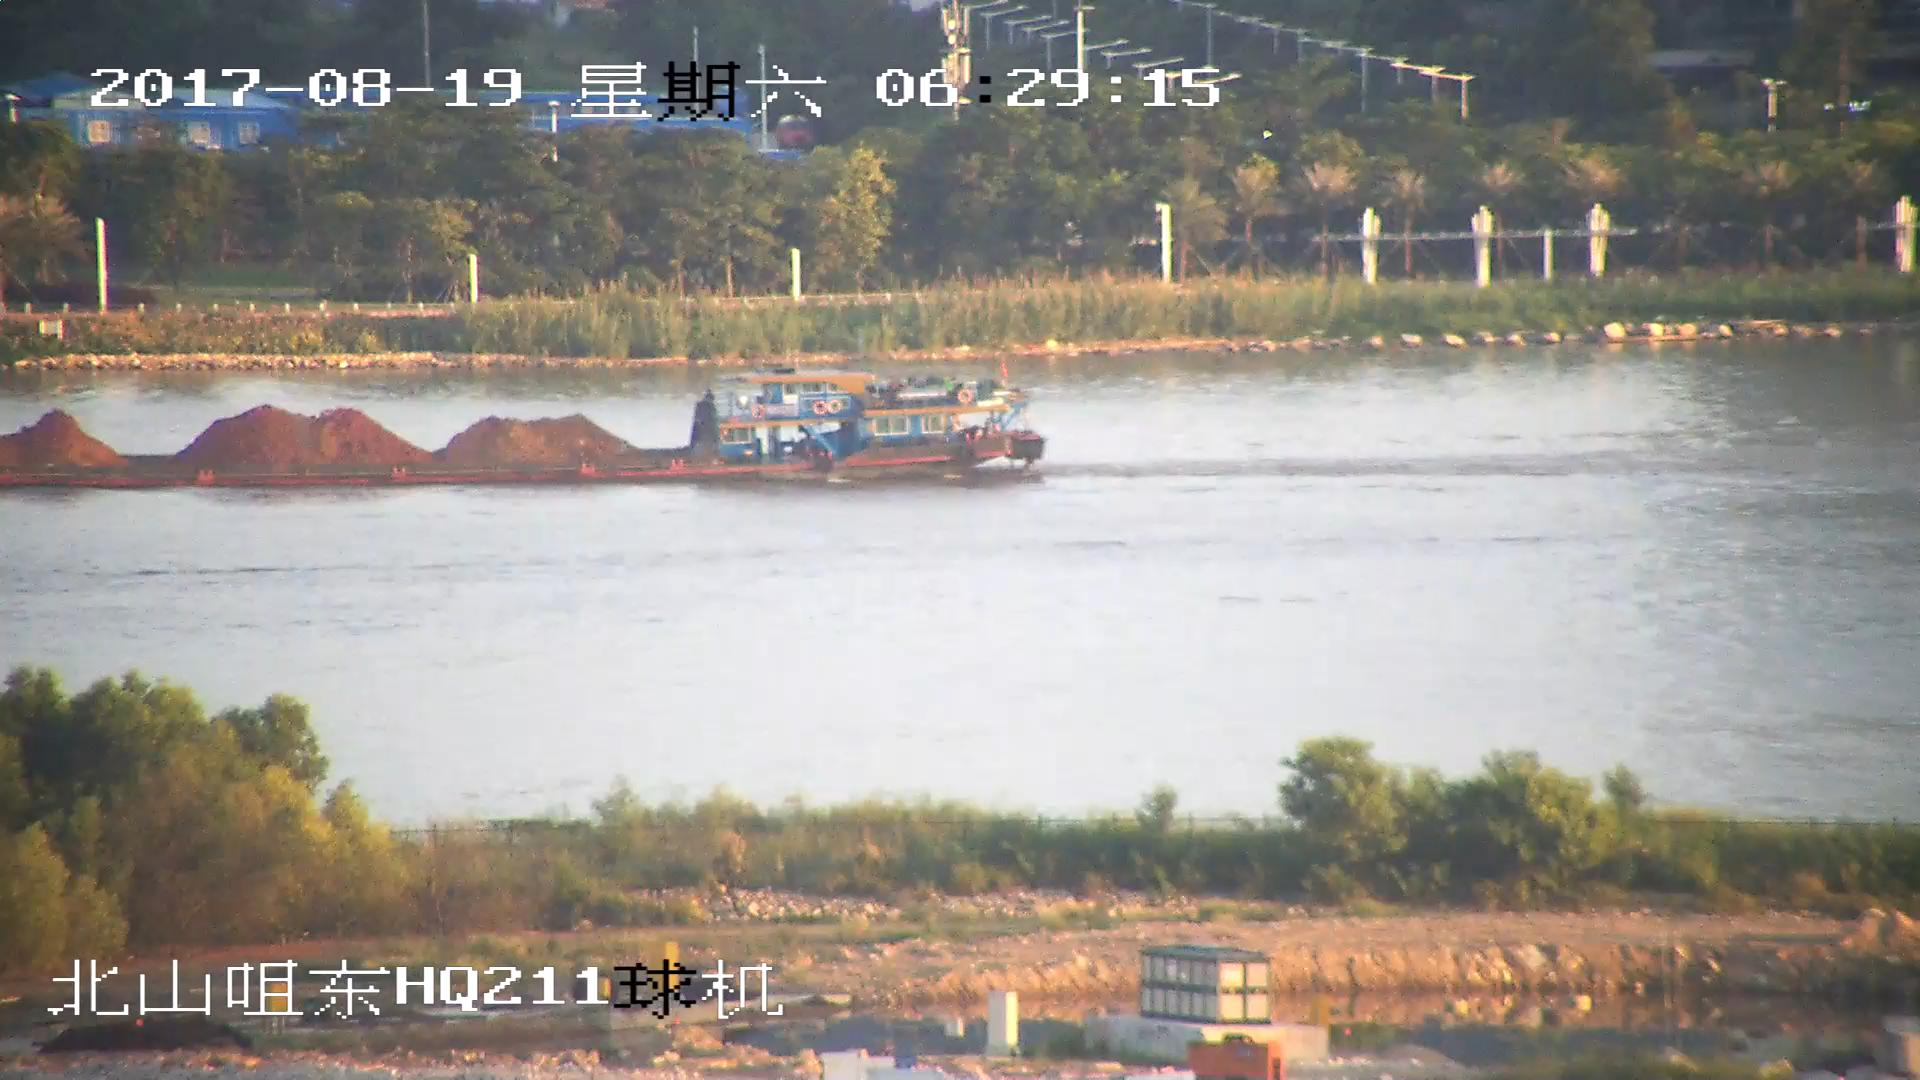ore carrier: (1, 357, 1036, 490)
